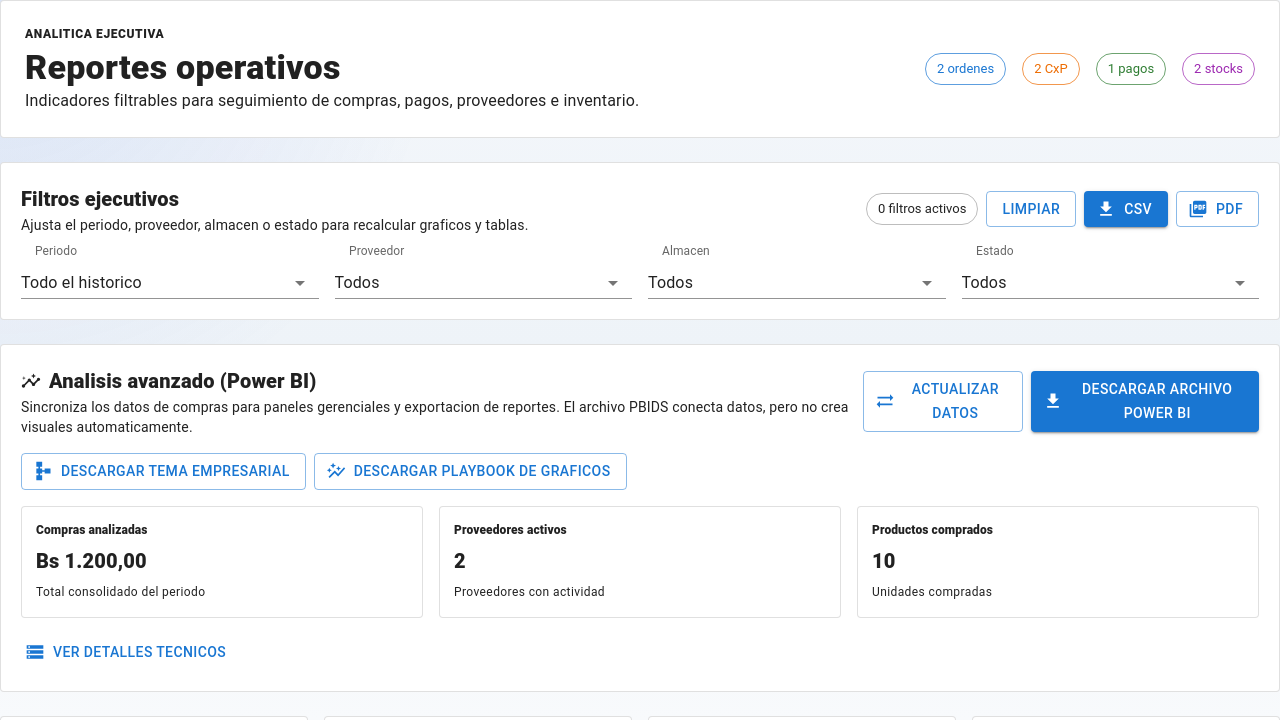
Test: ReportesScreen › filtra por proveedor y permite limpiar filtros
Expected: the text "2 ordenes" is shown, [937,61,994,76]
Expected: the text "2 CxP" is shown, [1034,61,1068,76]
Select "Proveedor Uno" in the dropdown labelled "Proveedor" at (483, 283), box [334,267,632,299]
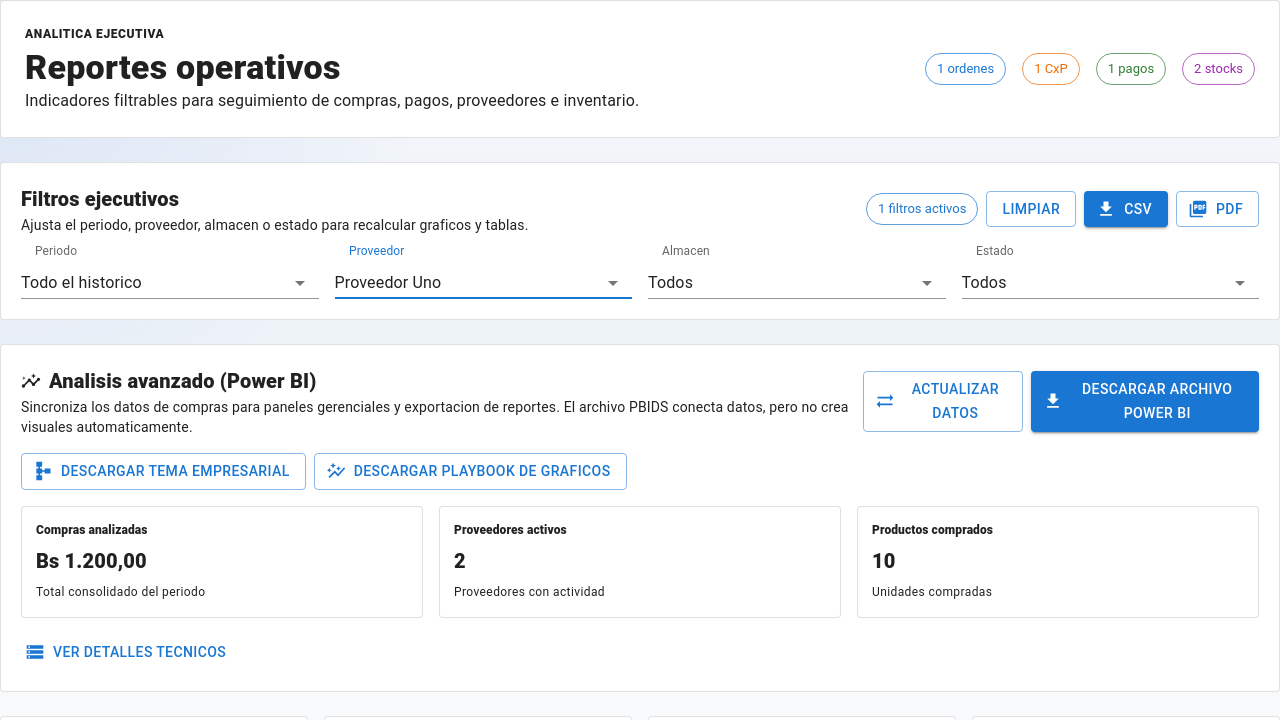
Expected: the text "1 ordenes" is shown, [937,61,994,76]
Expected: the text "1 CxP" is shown, [1034,61,1068,76]
Expected: the text "1 filtros activos" is shown, [878,201,966,216]
Click the button "Limpiar".
click(1031, 209)  # box [986,191,1076,227]
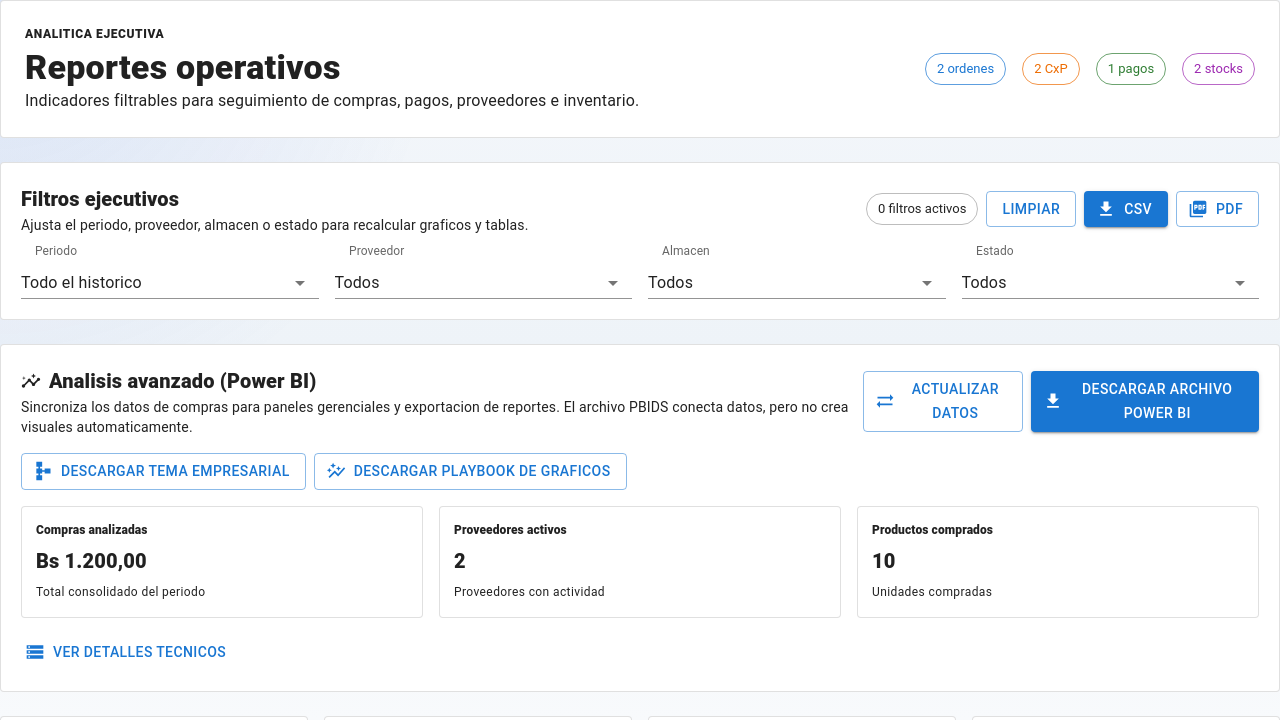
Expected: the text "2 ordenes" is shown, [937,61,994,76]
Expected: the text "0 filtros activos" is shown, [878,201,966,216]
